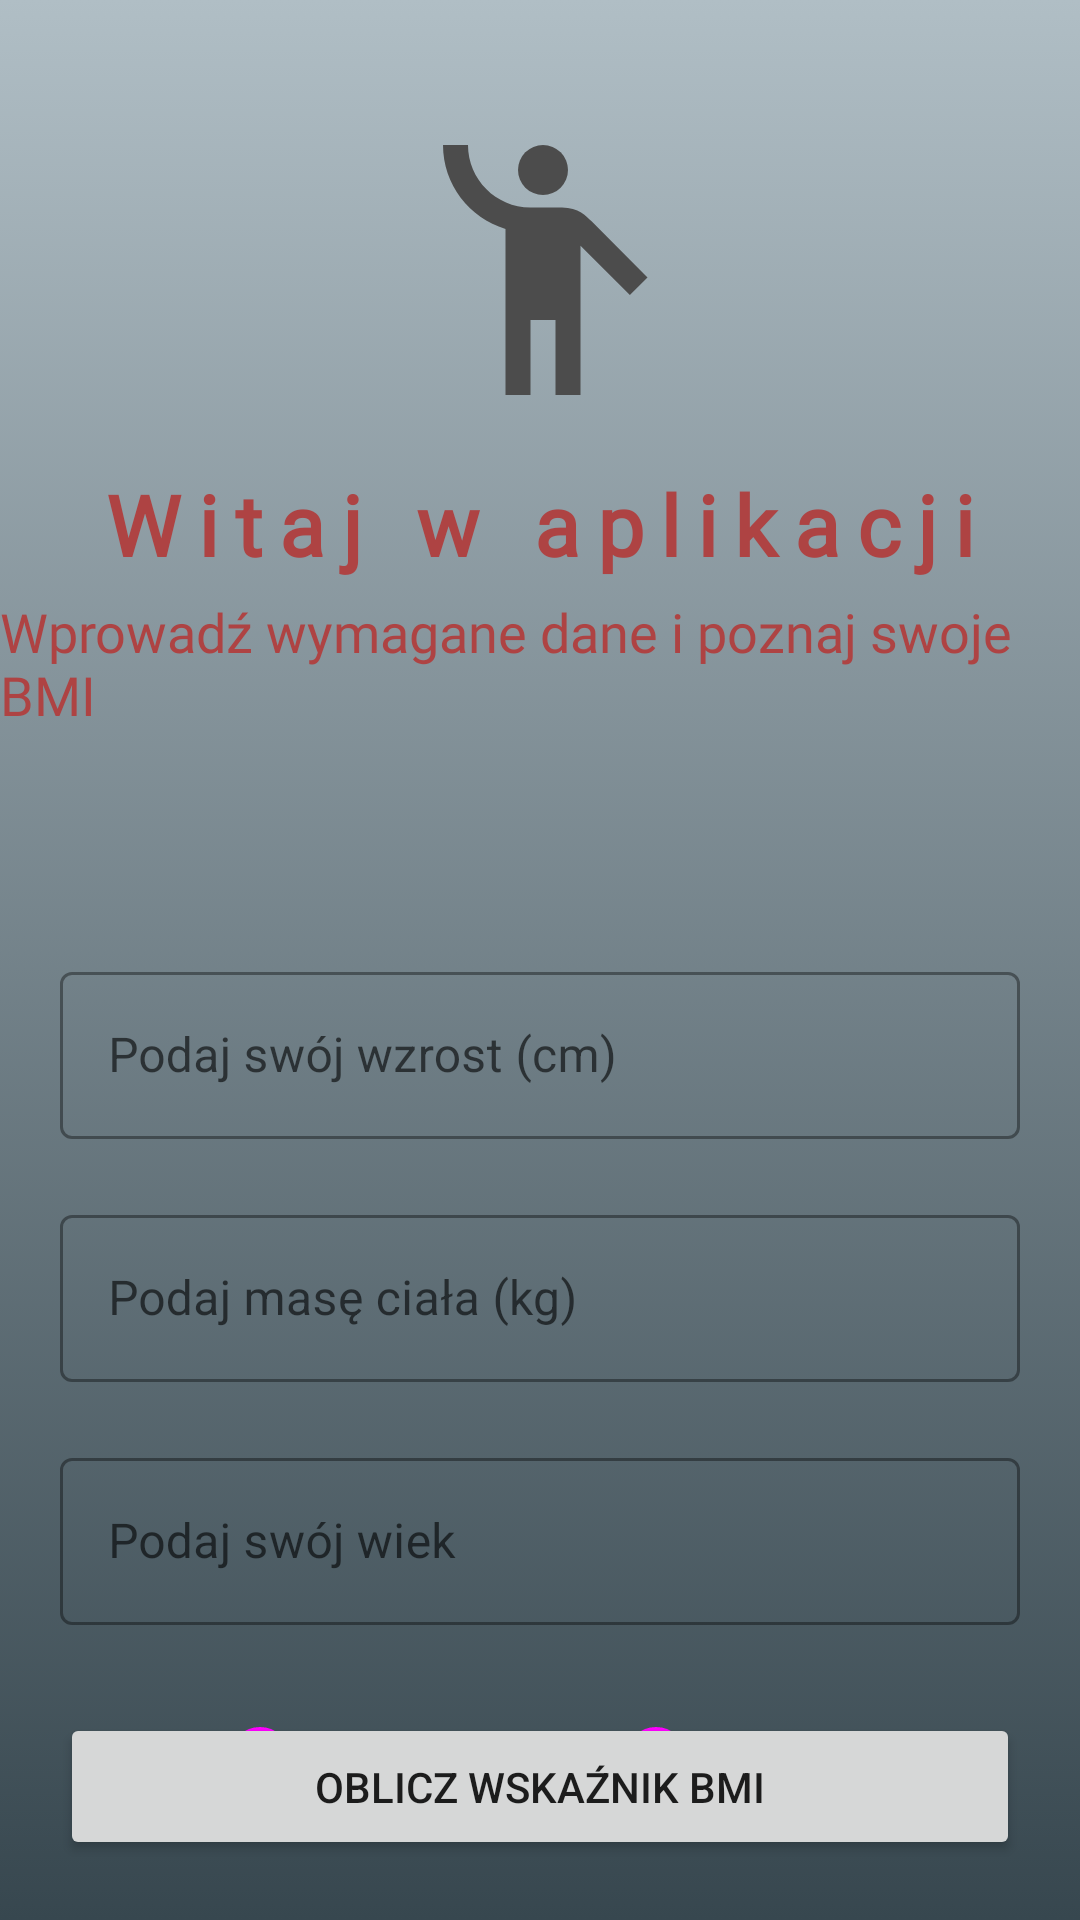

Named icons in this screenshot (1080x1920) and their centers, (x=x, y=y):
emoji people: (x=543, y=257)
